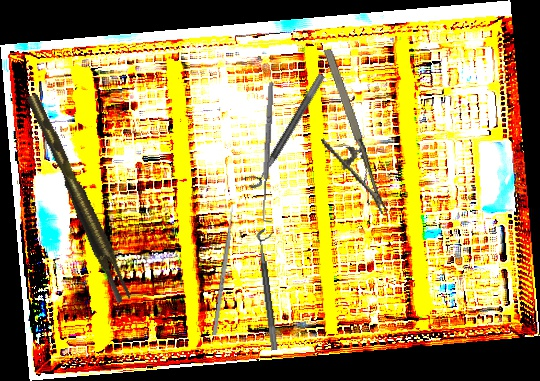Fixation Ring: (241, 67, 326, 192), (255, 227, 289, 351)
Hook Surgical: (259, 80, 280, 225)
Needle Holder: (296, 46, 388, 227)
Pusher: (212, 201, 236, 336)
Tissue Forceps: (26, 88, 133, 307)
